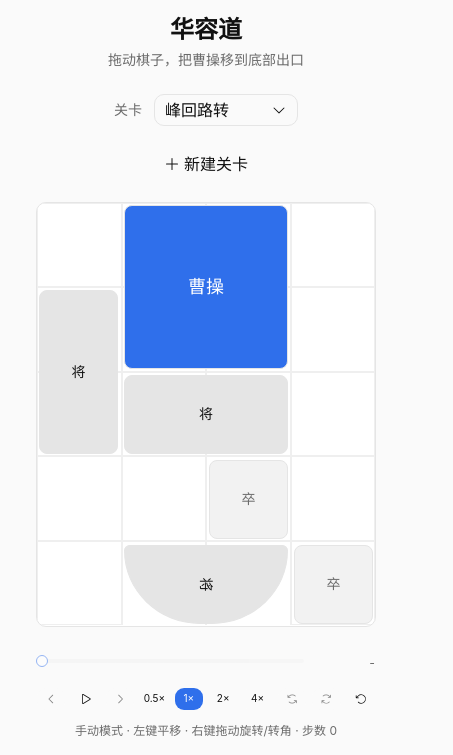
Test case: 半圆块交互 › 在半圆上按住右键环绕拖动后吸附到下一朝向
Click the dropdown named "选择关卡": (226, 110) x1=154 y1=94 x2=298 y2=126
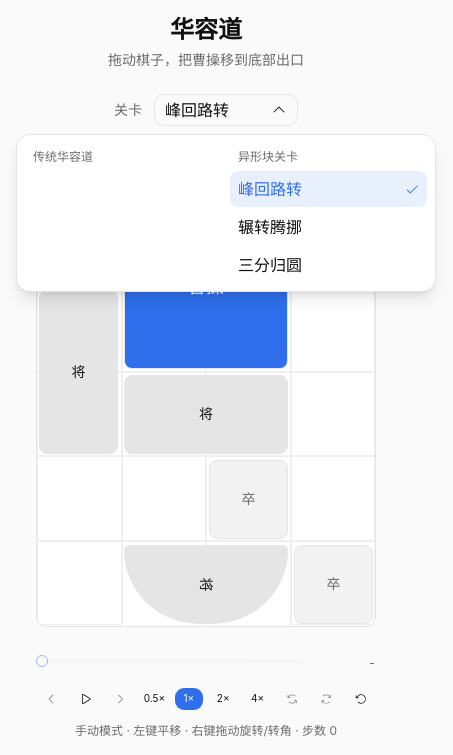
Click the option "峰回路转": (328, 188) x1=230 y1=170 x2=427 y2=206
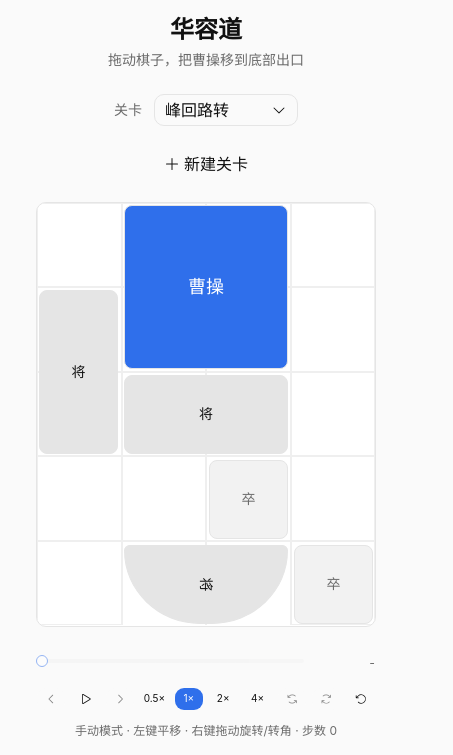
Press the mouse on the element with test id "piece-zu1": (248, 499) x1=206 y1=456 x2=291 y2=542
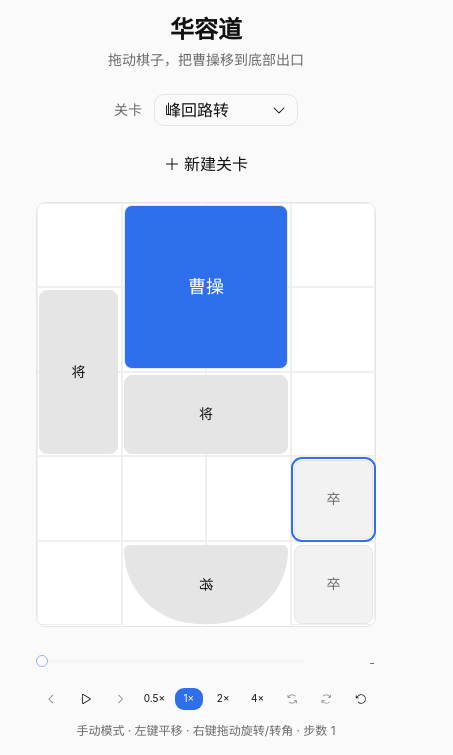
Press the mouse on the element named "半圆块": (206, 584) x1=121 y1=542 x2=291 y2=626
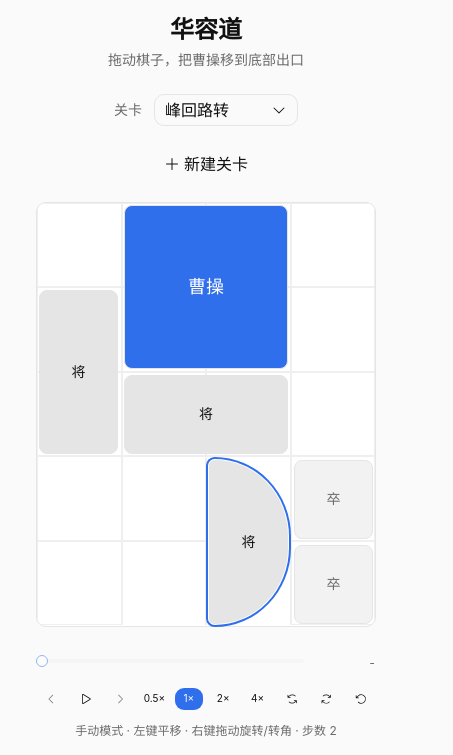
Expected: the text "手动模式 · 左键平移 · 右键拖动旋转/转角 · 步数 2" is shown, x1=75 y1=722 x2=337 y2=738
